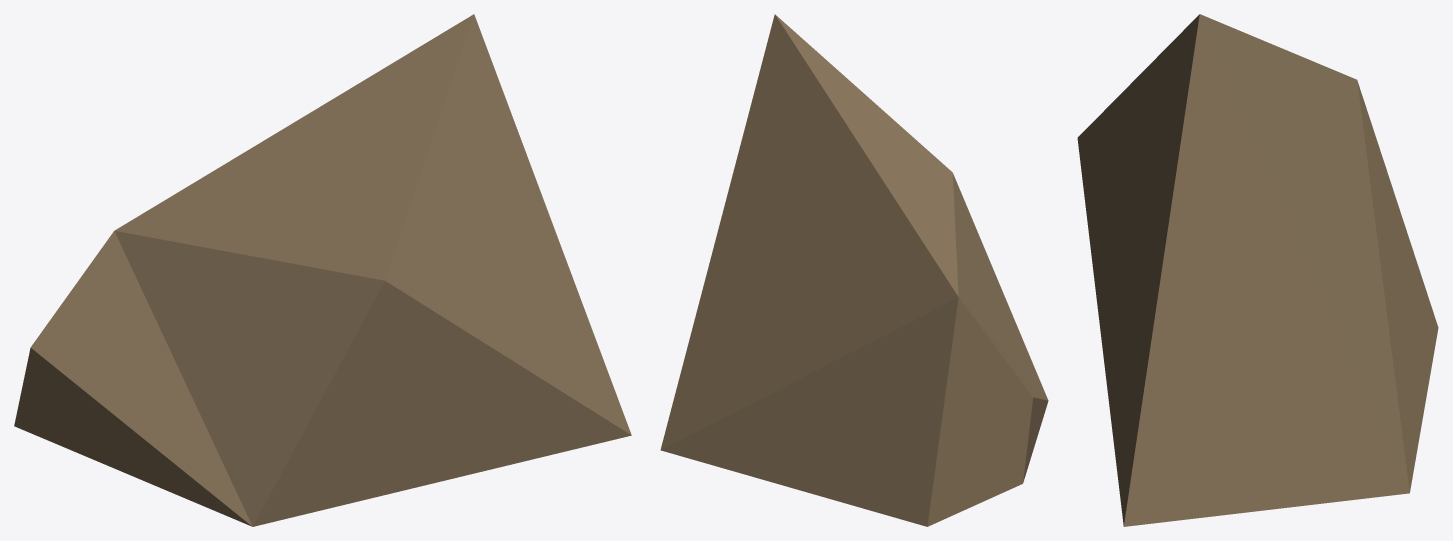
File: Rock05.fbx
3 views of the same model, side by side, from view 1: azimuth 30°, elevation 25°; view 2: azimuth 150°, elevation 25°; view 3: azimuth 270°, elevation 25° (orthographic). The views are drawn at different scales.
Parts seen in each view (by area): view 1: Rock05; view 2: Rock05; view 3: Rock05.
Boxes of the visible parts, x1,y1,x2,y2 form: Rock05: [14, 14, 631, 526]; Rock05: [660, 14, 1048, 526]; Rock05: [1077, 14, 1438, 526].
Size of the model in its own units: 10.06 by 8.49 by 6.01.
